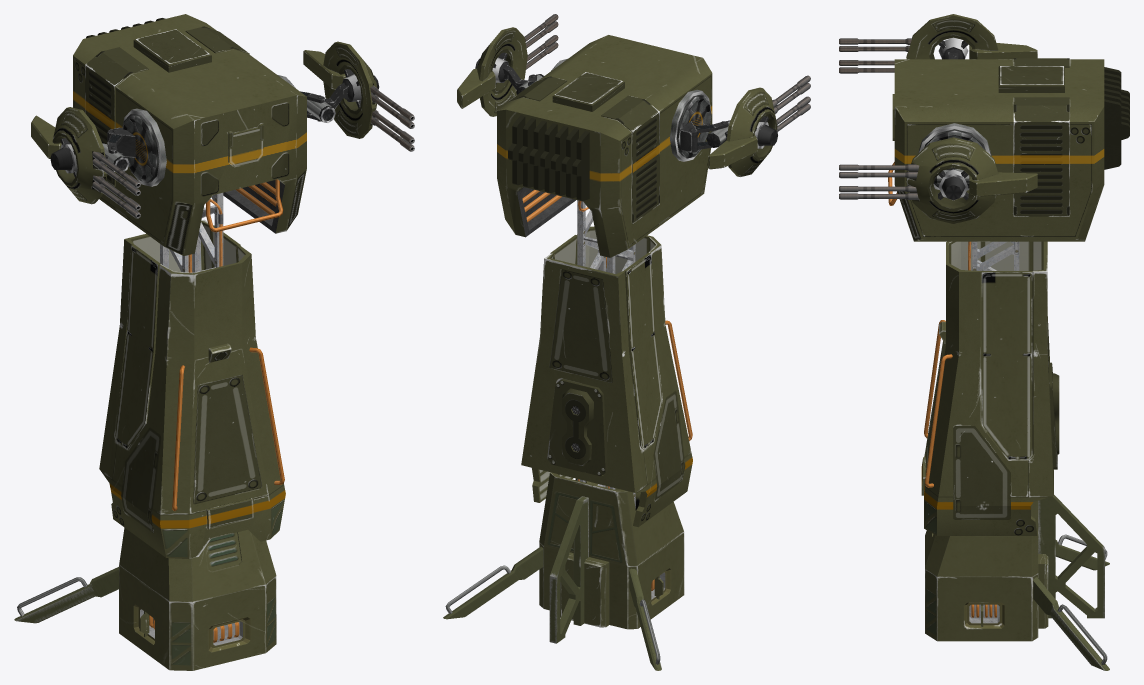
File: turret_tower_05.fbx
The picture shows the model from 3 angles, left to right: view 1: azimuth 30°, elevation 25°; view 2: azimuth 150°, elevation 25°; view 3: azimuth 270°, elevation 25°; orthographic projection. The views are drawn at different scales.
Parts seen in each view (by area): view 1: body (×3), head, tower_base, tower_body_door_right, tower_head_door_right, barrels (×2), decor3, tower_leg, decor (×2), body_frame, holder, tower_head_door_center (+3 smaller); view 2: body (×3), head, tower_base, decor3, tower_leg, tower_body_door_right, tower_body_door_rear, tower_head_door_right, barrels (×2), body_frame, holder, decor (+2 smaller); view 3: body (×3), head, tower_base, tower_body_door_left, tower_head_door_left, tower_leg, decor3, barrels (×2), body_frame, tower_body_door_right, tower_body_door_rear, decor2 (+2 smaller).
Boxes of the visible parts, x1,y1,x2,y2 form: body (×3): (31, 41, 379, 558); head: (73, 14, 306, 255); tower_base: (119, 527, 276, 670); tower_body_door_right: (114, 244, 160, 449); tower_head_door_right: (85, 47, 148, 186); barrels (×2): (92, 85, 414, 218); decor3: (86, 18, 211, 72); tower_leg: (14, 567, 118, 623); decor (×2): (107, 127, 283, 232); body_frame: (160, 192, 223, 272); holder: (123, 113, 159, 183); tower_head_door_center: (228, 124, 263, 167); body (×3): (457, 27, 777, 527); head: (497, 35, 712, 257); tower_base: (539, 472, 684, 629); decor3: (508, 72, 624, 200); tower_leg: (443, 496, 661, 670); tower_body_door_right: (624, 252, 662, 449); tower_body_door_rear: (547, 379, 607, 476); tower_head_door_right: (601, 95, 659, 224); barrels (×2): (524, 14, 810, 132); body_frame: (577, 200, 635, 507); holder: (676, 94, 711, 158); decor: (680, 121, 728, 152); body (×3): (906, 14, 1053, 535); head: (894, 59, 1104, 241); tower_base: (925, 501, 1048, 641); tower_body_door_left: (981, 271, 1032, 460); tower_head_door_left: (1013, 97, 1069, 216); tower_leg: (1033, 495, 1109, 670); decor3: (998, 66, 1129, 169); barrels (×2): (839, 38, 919, 199); body_frame: (968, 241, 1019, 270); tower_body_door_right: (981, 241, 1032, 270); tower_body_door_rear: (1049, 362, 1059, 469); decor2: (918, 123, 991, 190).
Bounding box in the file's own units: 9.31 × 15.97 × 7.78.
